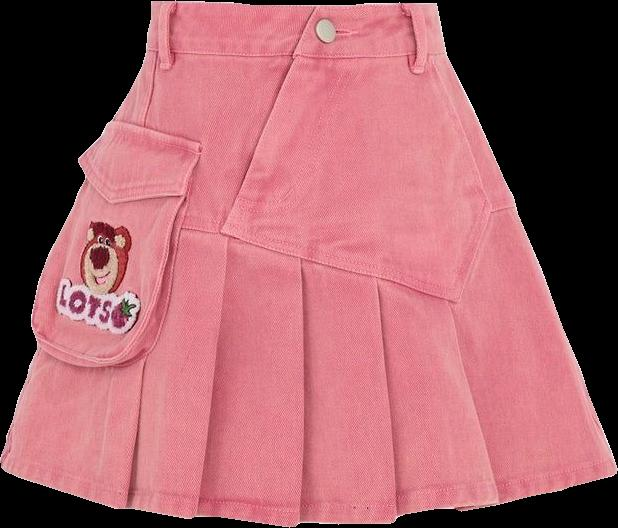Hemline: (0, 463, 617, 527)
Waistline: (145, 48, 447, 62), (150, 0, 439, 10)
